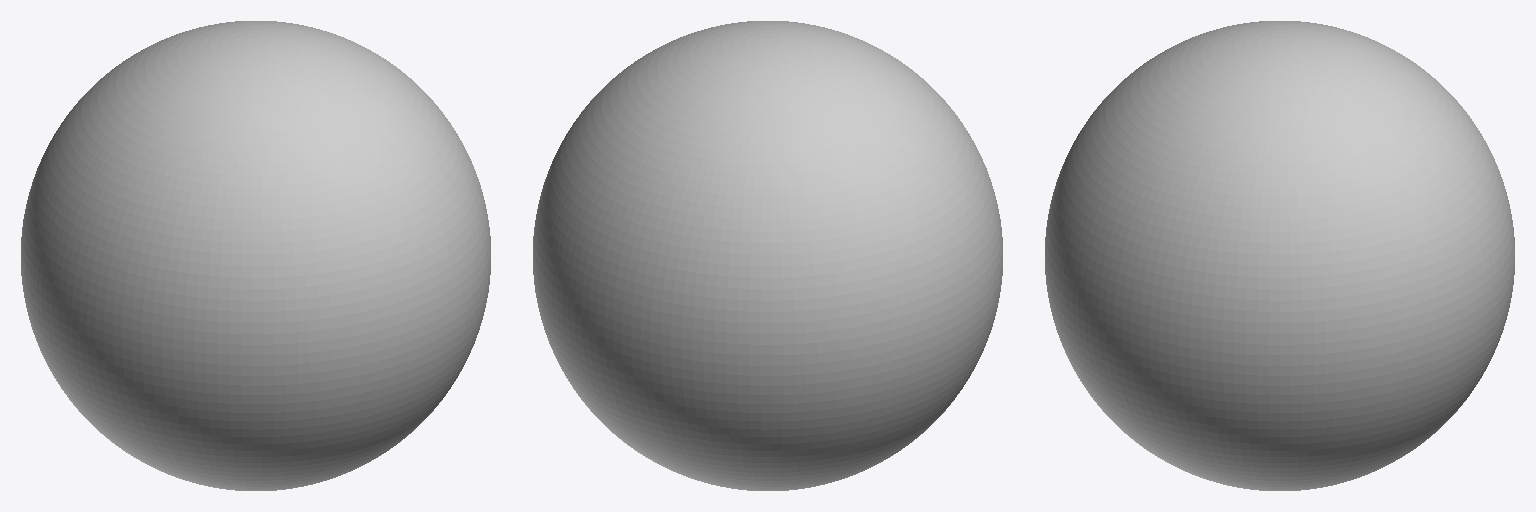
Rendered from pirulino_levetta_copy.OBJ.
3 renders of one model, left to right at view 1: azimuth 30°, elevation 25°; view 2: azimuth 150°, elevation 25°; view 3: azimuth 270°, elevation 25°, orthographic.
Parts seen in each view (by area): view 1: Group31600; view 2: Group31600; view 3: Group31600.
Boxes of the visible parts, x1,y1,x2,y2 form: Group31600: [21, 21, 490, 490]; Group31600: [533, 21, 1002, 490]; Group31600: [1045, 21, 1514, 490].
Bounding box in the file's own units: 0.3833 × 0.3835 × 0.3833.